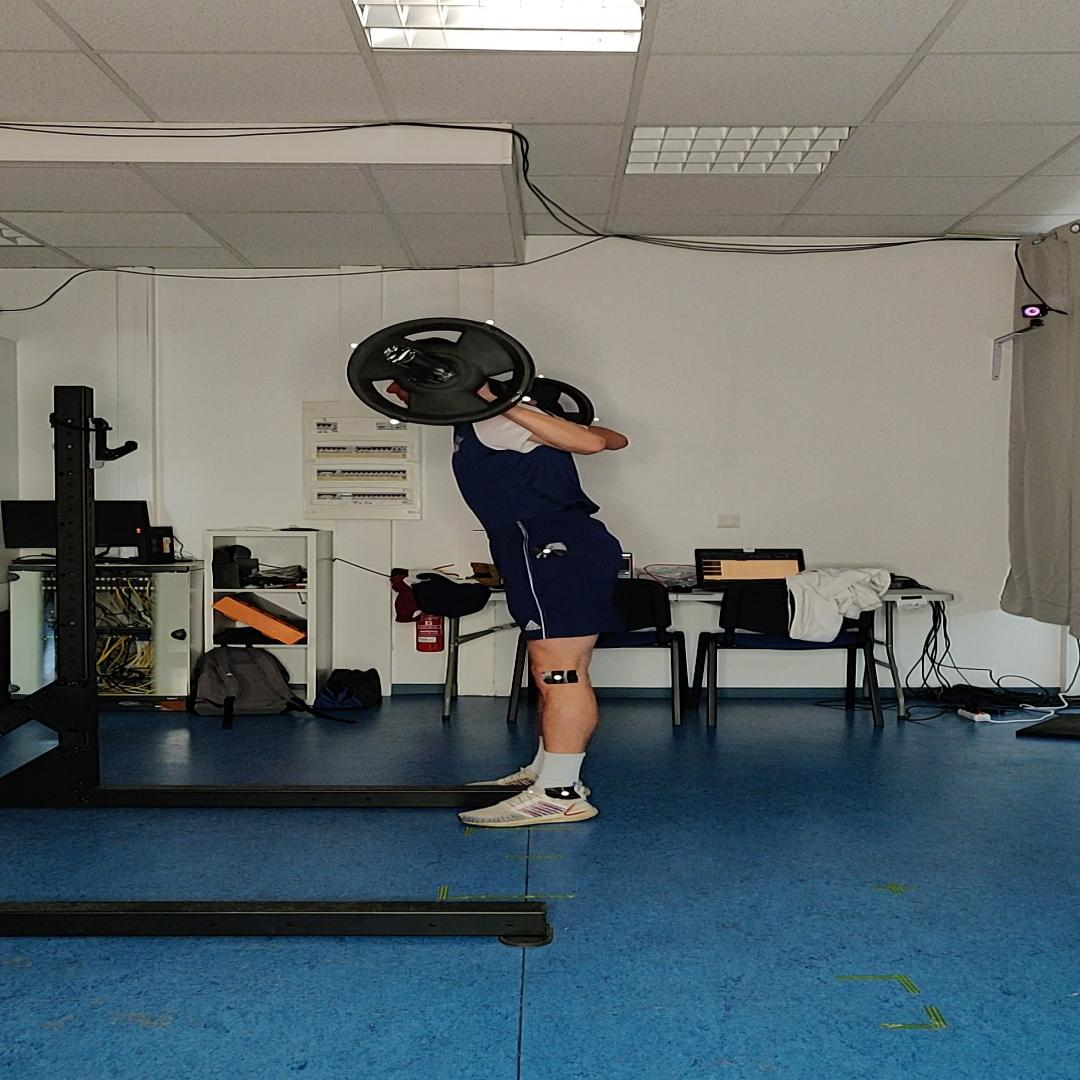Bar: (382, 344, 417, 364)
Barbell: (347, 317, 536, 426)
